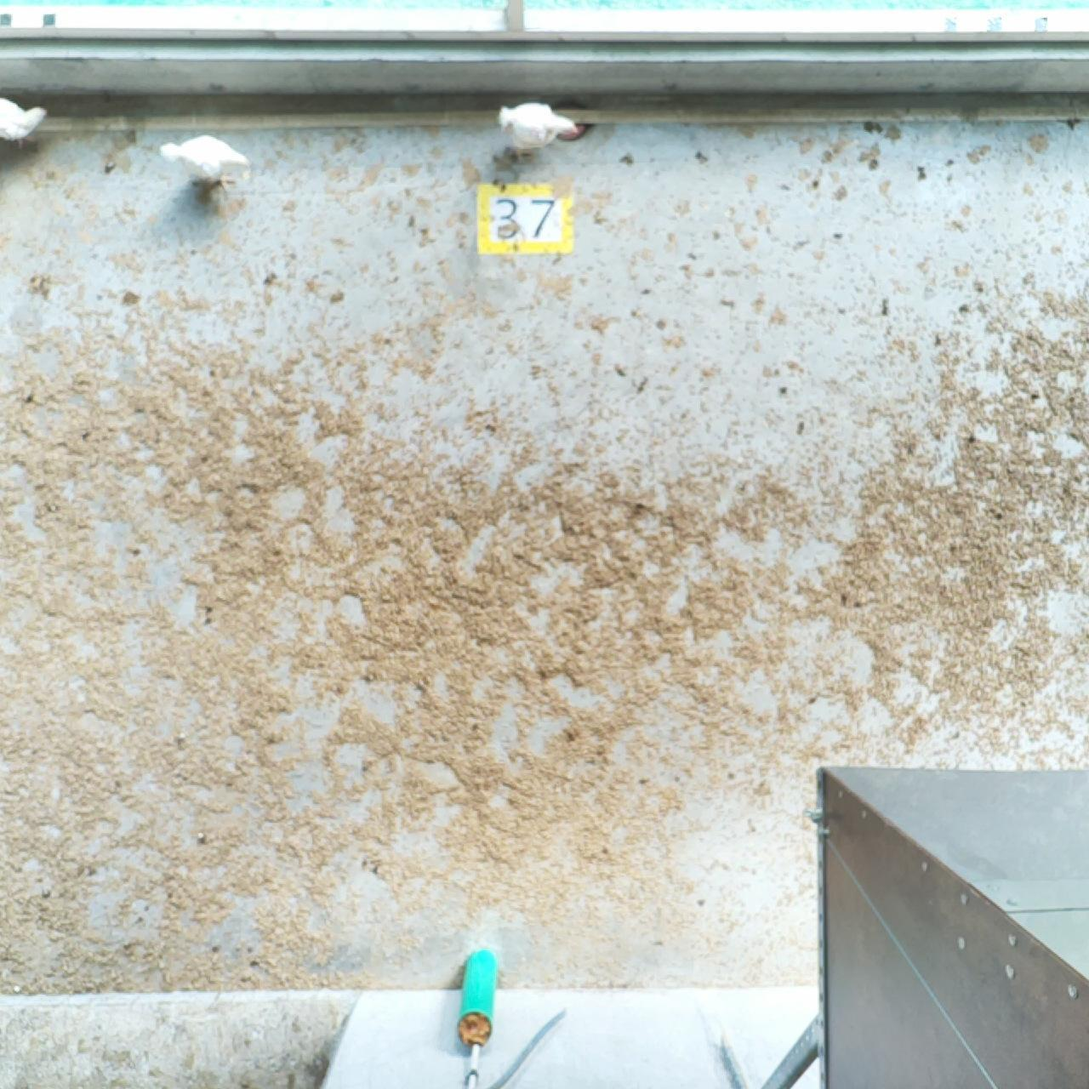chicken: (152, 134, 257, 190), (494, 104, 583, 162), (1, 86, 44, 150)
